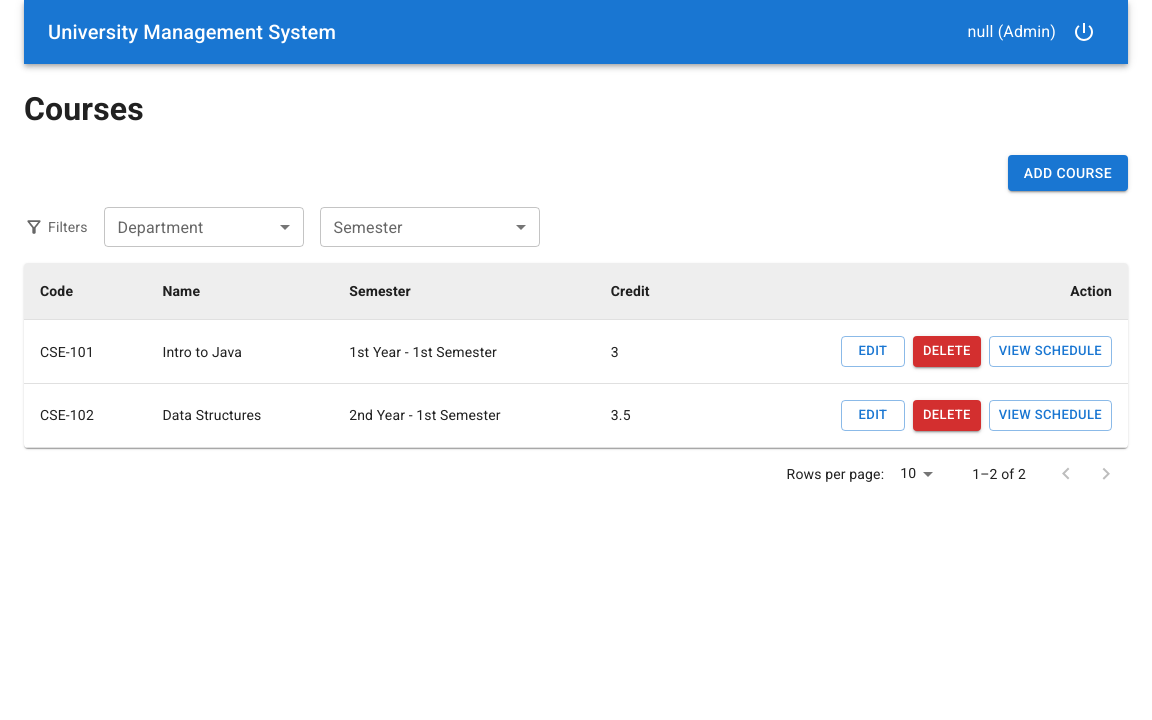
Test: CoursePage › sends DELETE to the correct URL, refreshes, and shows success snackbar
The image size is (1152, 720).
Expected: the text "Intro to Java" is shown, top-left (146, 320), bottom-right (333, 384)
Step 1. Click the button "Delete" in the row of "CSE-101" → (947, 352), box top-left (913, 336), bottom-right (981, 367)
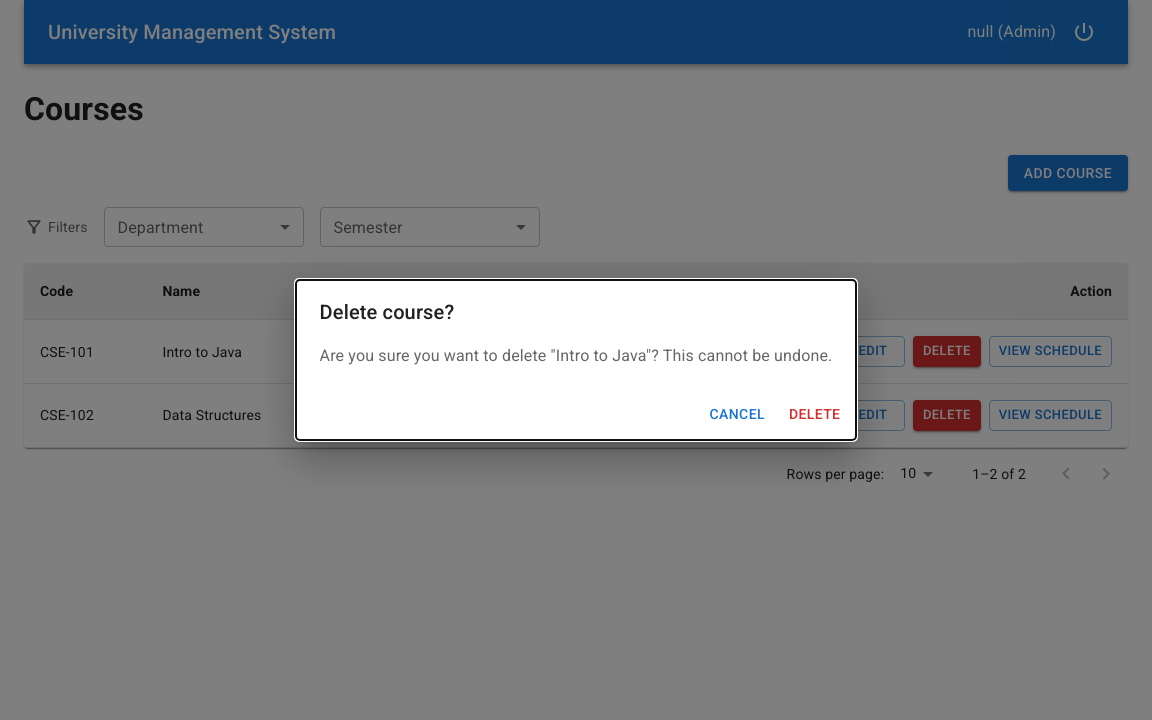
Now the heading "Delete course?" is shown, box top-left (320, 300), bottom-right (454, 324)
Step 2. Click the button "Delete" → (815, 414), box top-left (781, 396), bottom-right (848, 432)
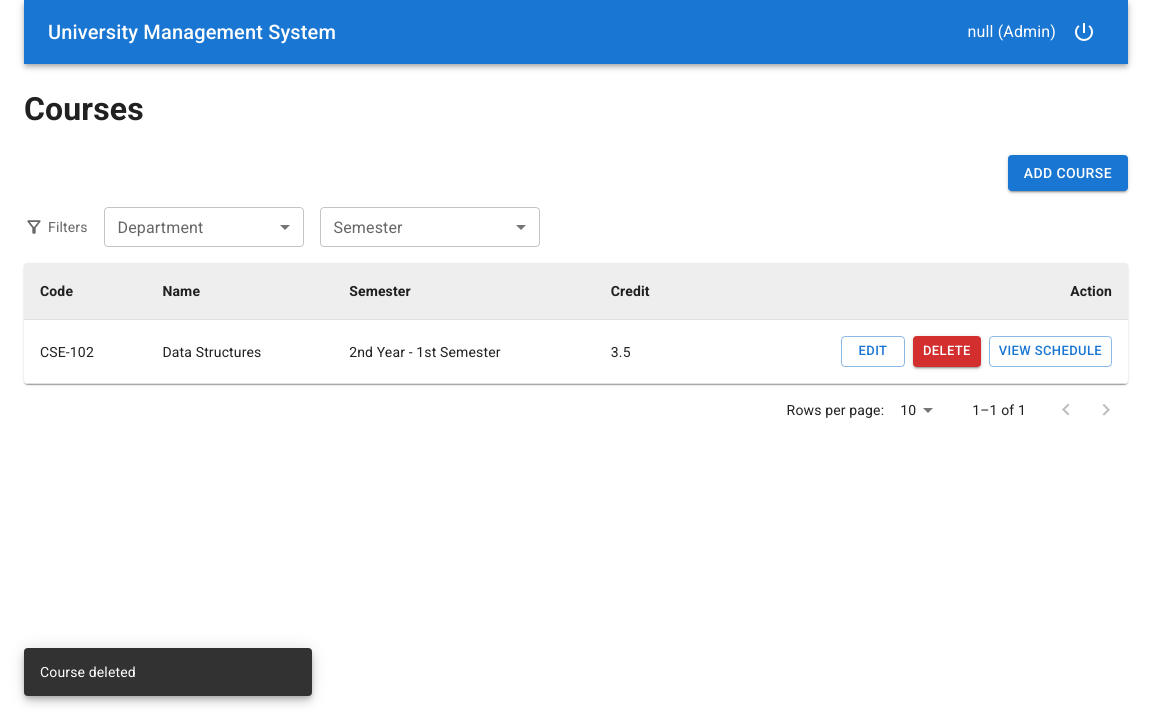
Now the text "Course deleted" is shown, box top-left (40, 664), bottom-right (136, 680)
Now the text "Intro to Java" is gone
